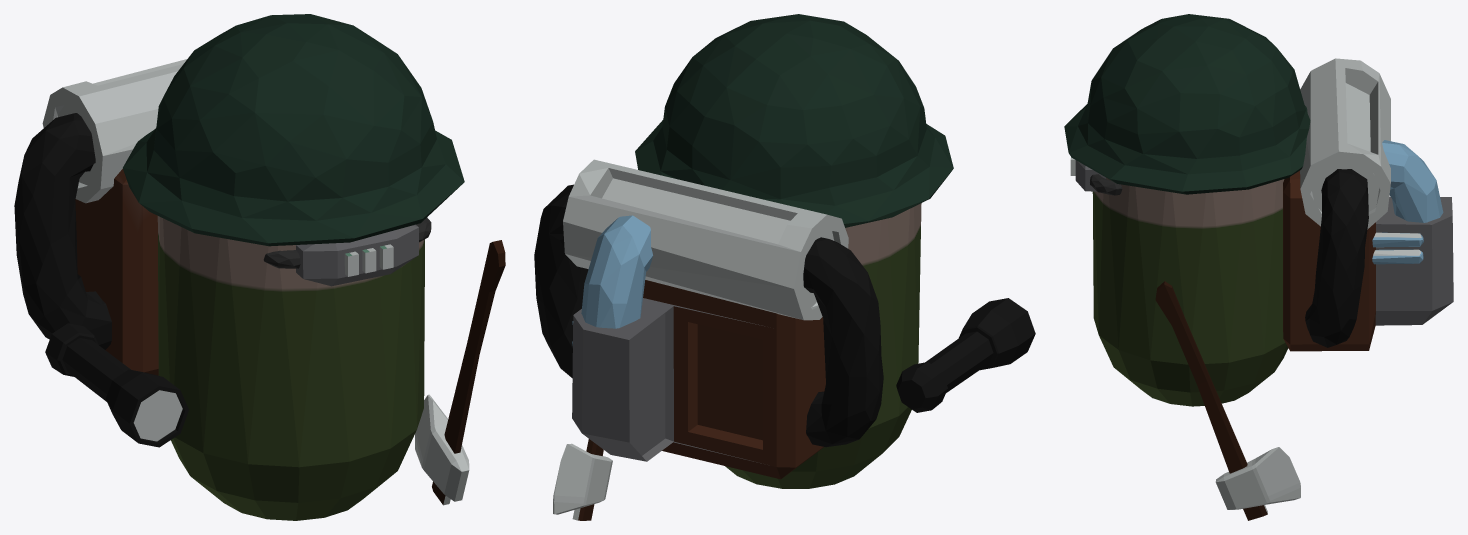
Rendered from CharacterAtkAnim_V3.fbx.
3 views of the same model, side by side, from view 1: azimuth 30°, elevation 25°; view 2: azimuth 150°, elevation 25°; view 3: azimuth 270°, elevation 25° (orthographic). The views are drawn at different scales.
Visible parts, largest first — view 1: BODY, Hat, Backpack, Flashlight, Axe, Mask; view 2: Backpack, Hat, BODY, Flashlight, Axe; view 3: Backpack, BODY, Hat, Axe, Mask.
Part boxes in pixels (x1,y1,x2,y2): BODY: (157, 216, 424, 520); Hat: (123, 14, 464, 246); Backpack: (14, 59, 187, 375); Flashlight: (45, 323, 188, 447); Axe: (415, 240, 505, 505); Mask: (263, 217, 431, 286); Backpack: (534, 159, 883, 479); Hat: (635, 14, 953, 227); BODY: (725, 203, 921, 488); Flashlight: (896, 298, 1035, 412); Axe: (553, 439, 612, 520); Backpack: (1283, 58, 1453, 351); BODY: (1092, 177, 1288, 406); Hat: (1064, 14, 1310, 194); Axe: (1155, 281, 1300, 520); Mask: (1070, 157, 1122, 195).
Size of the model in its own units: 140 by 178 by 148.
